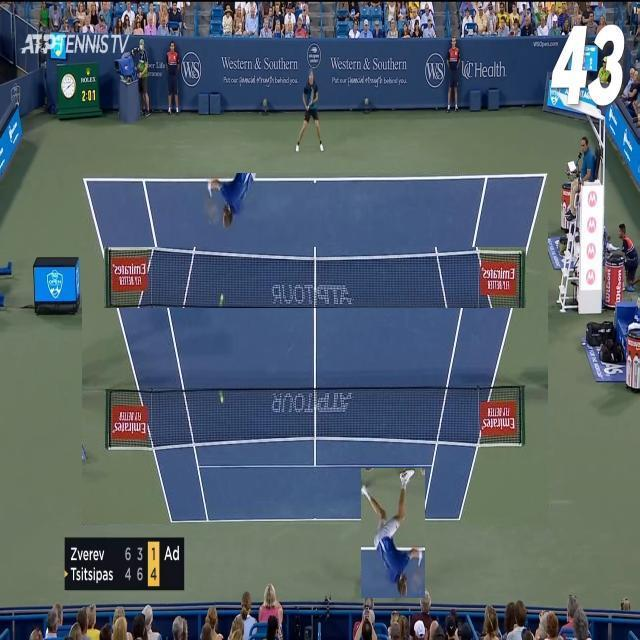court: (82, 173, 548, 524)
net: (104, 247, 526, 308)
player: (361, 468, 425, 598)
